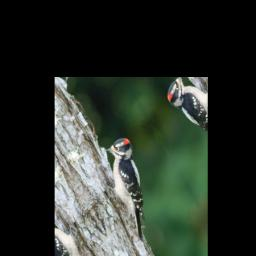Woodpecker: (90, 128, 173, 246)
